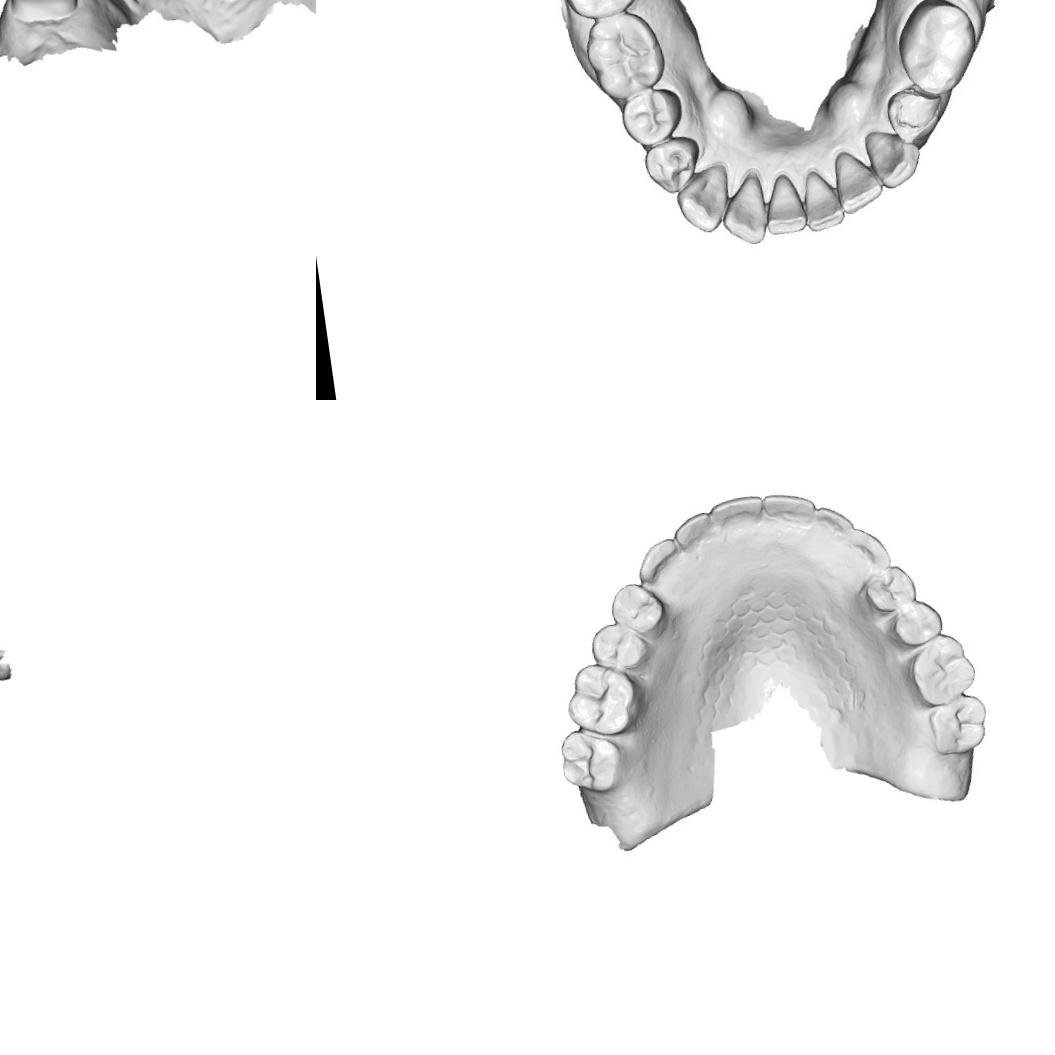canine: (862, 126, 924, 191), (674, 170, 730, 240), (834, 525, 896, 576), (632, 534, 686, 588)
incisor: (714, 172, 768, 252), (704, 482, 770, 542), (834, 152, 884, 216), (808, 490, 862, 548), (798, 170, 846, 234), (758, 176, 805, 240), (762, 481, 818, 534), (668, 508, 720, 559)
molar: (892, 0, 985, 100), (583, 7, 670, 99), (560, 658, 651, 744), (903, 630, 988, 714), (553, 725, 632, 800), (918, 690, 997, 764), (549, 0, 645, 20)
premolar: (604, 578, 674, 646), (881, 591, 952, 658), (586, 618, 652, 681), (858, 561, 925, 621), (620, 86, 686, 144), (886, 84, 946, 145), (640, 138, 699, 197), (0, 0, 90, 27)
